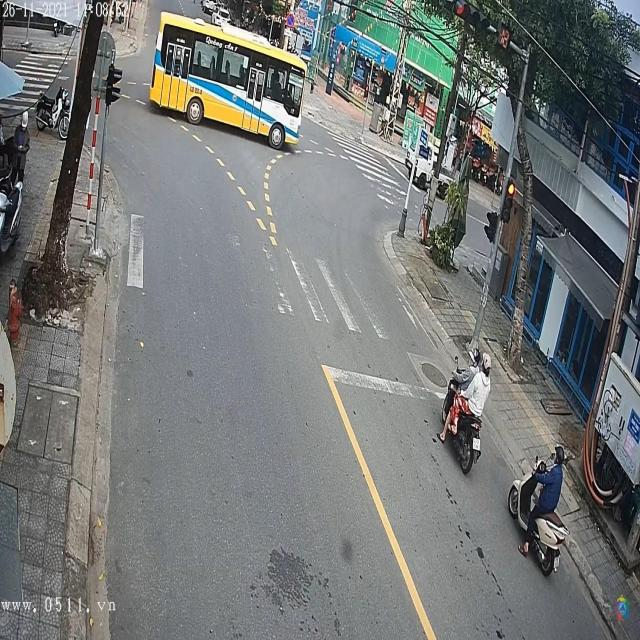bus: (150, 14, 307, 152)
motorcycle: (507, 450, 570, 579), (441, 366, 486, 475)
